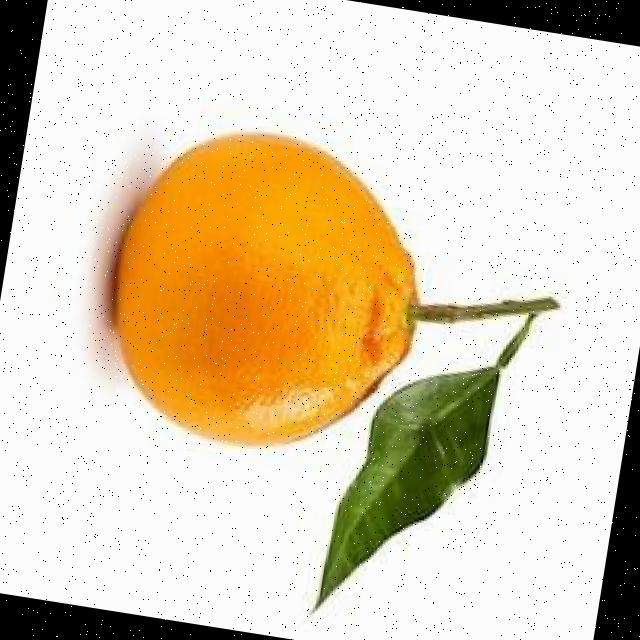Ripe: (86, 103, 444, 474)
